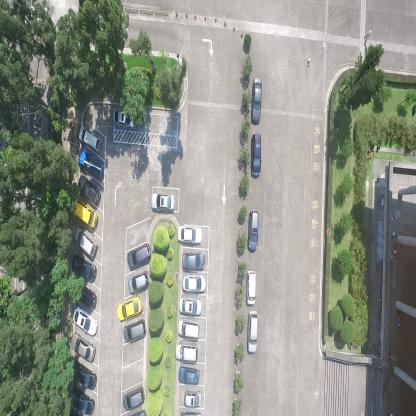car: (76, 148, 104, 180), (69, 332, 96, 364), (74, 225, 98, 260), (72, 198, 98, 230), (71, 307, 98, 337), (70, 253, 97, 282), (77, 174, 101, 206), (126, 241, 152, 270), (72, 360, 97, 390), (71, 386, 95, 415), (117, 296, 143, 322), (76, 126, 101, 152), (123, 317, 147, 344), (74, 282, 97, 310), (122, 384, 145, 411), (176, 223, 202, 246), (112, 107, 137, 130), (250, 131, 262, 178), (150, 191, 175, 213), (247, 208, 259, 253), (251, 76, 262, 125), (128, 270, 150, 294), (177, 318, 200, 340), (174, 342, 198, 363), (181, 250, 206, 270), (247, 309, 258, 354), (178, 296, 202, 316), (182, 274, 206, 293), (245, 269, 257, 306), (178, 365, 200, 385), (183, 389, 202, 407)
